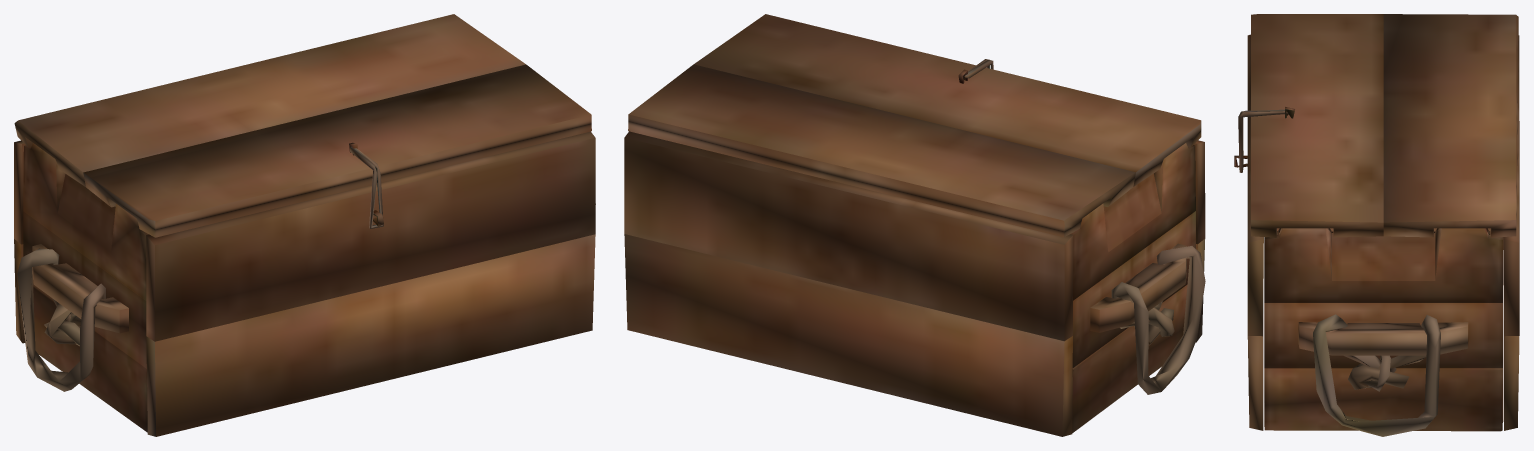
Rendered from wooden_crate_01_lod2.glb.
The picture shows the model from 3 angles, left to right: view 1: azimuth 30°, elevation 25°; view 2: azimuth 150°, elevation 25°; view 3: azimuth 270°, elevation 25°; orthographic projection. The views are drawn at different scales.
Parts seen in each view (by area): view 1: wooden_crate_01_lid; view 2: wooden_crate_01_lid; view 3: wooden_crate_01_lid.
Part boxes in pixels (x1=…): wooden_crate_01_lid: x1=14, y1=14, x2=595, y2=436; wooden_crate_01_lid: x1=624, y1=14, x2=1205, y2=436; wooden_crate_01_lid: x1=1234, y1=14, x2=1519, y2=436.
Bounding box in the file's own units: 0.8245 × 0.3469 × 0.4042.
1 material, 1 textured.
